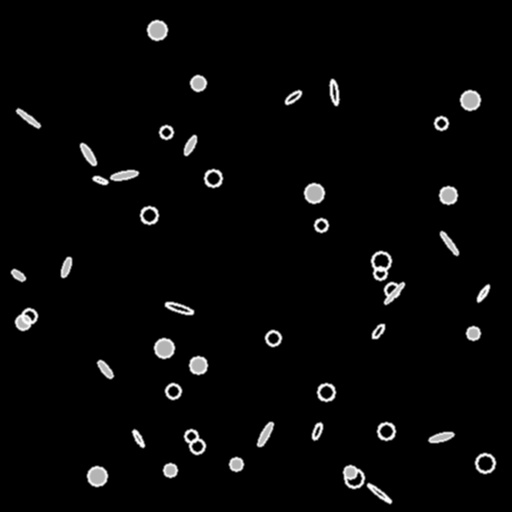pseudomonas: (366, 482, 392, 504), (383, 281, 405, 305), (15, 108, 41, 128), (439, 230, 459, 256), (164, 300, 194, 316), (256, 421, 274, 447), (79, 142, 97, 166), (428, 430, 454, 444), (96, 359, 114, 379), (182, 135, 198, 155), (284, 89, 302, 105), (370, 322, 386, 340), (60, 256, 72, 278), (111, 170, 137, 180), (131, 429, 145, 447), (476, 284, 490, 302), (329, 80, 339, 104), (10, 268, 26, 282), (311, 422, 323, 440), (92, 175, 108, 185)
synechocystis: (461, 91, 479, 109), (476, 454, 494, 472), (345, 469, 363, 487), (155, 339, 173, 357), (372, 252, 390, 270), (305, 184, 323, 202), (148, 21, 166, 39), (88, 467, 106, 485), (141, 207, 157, 223), (205, 170, 221, 186), (190, 357, 206, 373), (318, 384, 334, 400), (440, 187, 456, 203), (378, 423, 394, 439), (266, 331, 280, 345), (191, 76, 205, 90), (166, 384, 180, 398), (190, 439, 204, 453), (385, 283, 399, 297), (16, 315, 30, 329), (22, 309, 36, 323), (467, 327, 479, 339), (315, 219, 327, 231), (160, 126, 172, 138), (164, 464, 176, 476), (344, 466, 356, 478), (374, 267, 386, 279), (185, 430, 197, 442), (435, 117, 447, 129), (230, 458, 242, 470)
